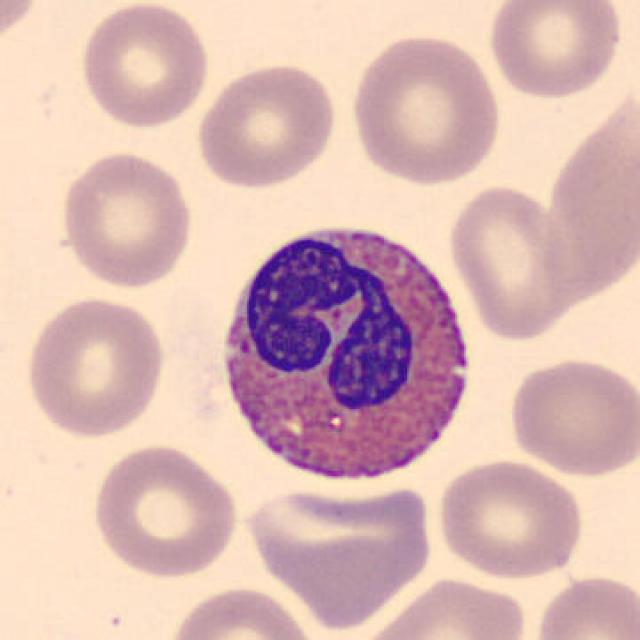Eosinophil: (204, 205, 486, 502)
RBC: (238, 481, 438, 626), (347, 30, 505, 187), (543, 86, 640, 312), (21, 292, 169, 440), (89, 439, 242, 580), (55, 146, 197, 291), (444, 182, 572, 342), (192, 58, 341, 192), (434, 455, 586, 580), (76, 0, 213, 130), (503, 352, 637, 480), (483, 0, 625, 102), (356, 575, 530, 640), (161, 583, 323, 640), (530, 569, 638, 640), (0, 0, 43, 51)
